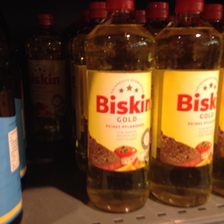oil: (85, 1, 154, 212), (154, 1, 223, 208), (27, 14, 70, 144)
